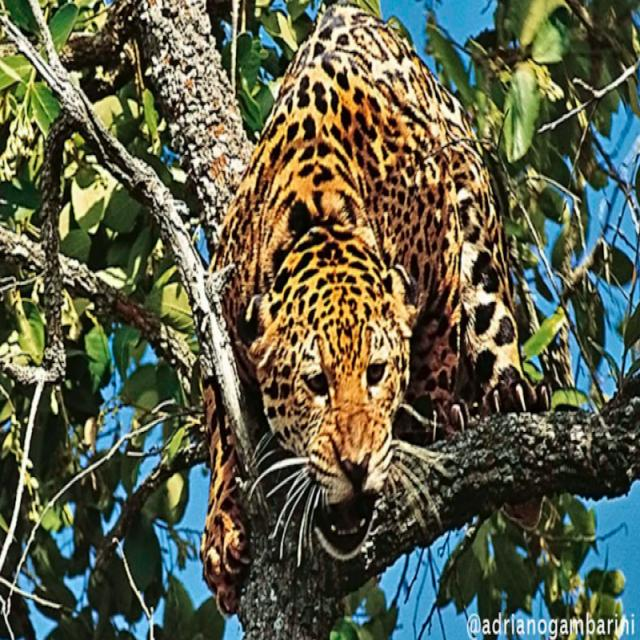Jaguar: (196, 0, 553, 621)
